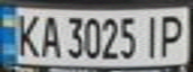0: (81, 14, 103, 61)
2: (100, 15, 121, 61)
3: (63, 13, 84, 60)
5: (118, 12, 142, 61)
A: (36, 11, 60, 60)
I: (139, 11, 163, 60)
K: (9, 10, 42, 58)
P: (154, 11, 190, 58)
